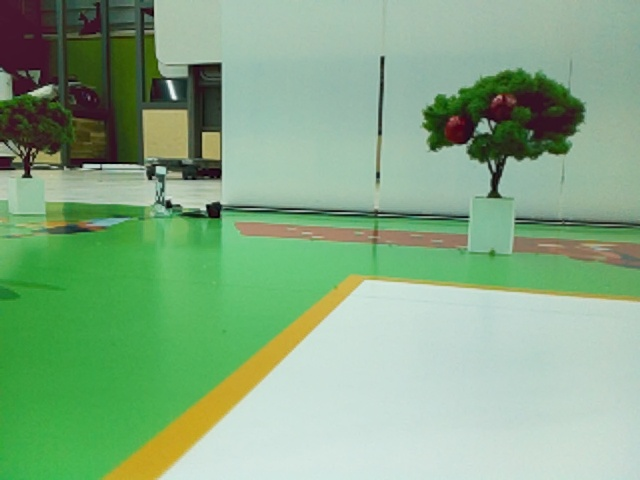apple: (445, 116, 465, 142)
